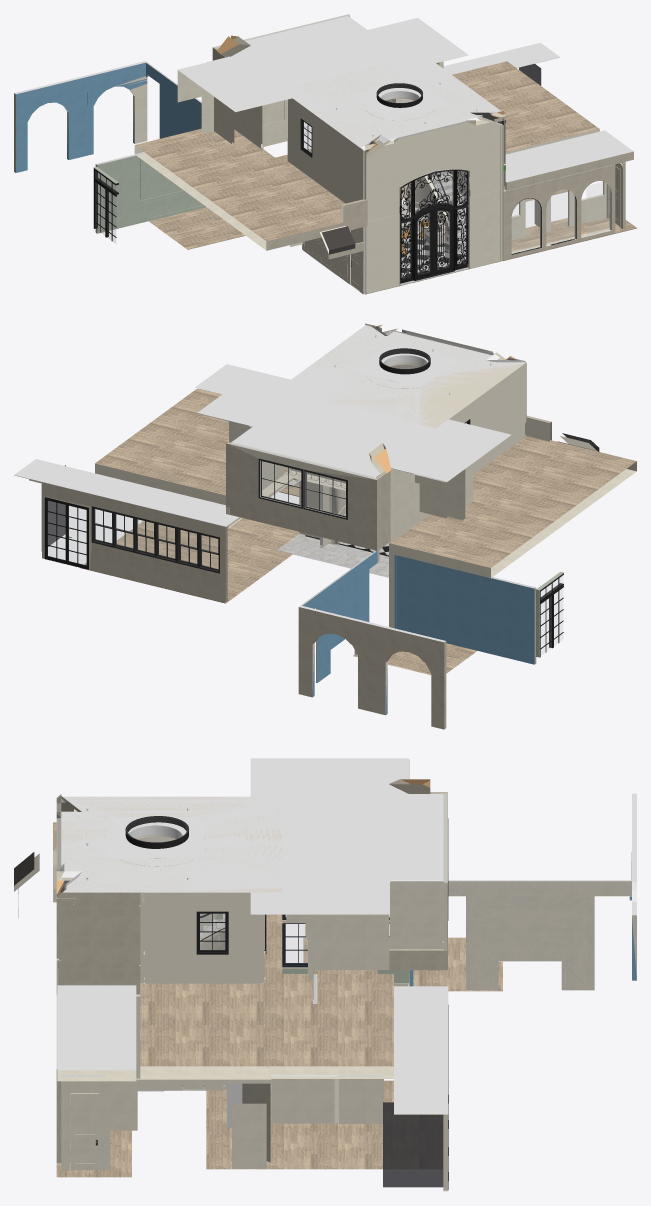
Rendered from entry-5d8864693d4b.glb.
The picture shows the model from 3 angles, top to bottom: view 1: azimuth 30°, elevation 25°; view 2: azimuth 150°, elevation 25°; view 3: azimuth 270°, elevation 25°; orthographic projection. The views are drawn at different scales.
Parts seen in each view (by area): view 1: entry-look-2575515a05775d9e, entry-look-9d91b47435c6fb33, entry-9d91b47435c6fb33, entry-4edf3a9420c06709, entry-look-969b861f9850351e, entry-look-b19b106fc304963c, entry-746250f96522f643, entry-look-dbd60ee5c3733ed6, entry-9ca48b730e5de4b2, entry-look-c9e78b9ec1bb39cd, entry-969fb0f33943ba89, entry-785988ccf932ddd5 (+35 smaller); view 2: entry-look-2575515a05775d9e, entry-look-9d91b47435c6fb33, entry-look-b19b106fc304963c, entry-9d91b47435c6fb33, entry-look-969b861f9850351e, entry-look-245f595ae2832e16, entry-look-3b0077416469e01b, entry-look-bfb9fa537cd11d1d, entry-e8793759323e04f0, entry-look-9a0e9ee9b2a451d7, entry-746250f96522f643, entry-look-3e6709f91b43c3bf (+18 smaller); view 3: entry-look-2575515a05775d9e, entry-look-9d91b47435c6fb33, entry-9d91b47435c6fb33, entry-look-3e6709f91b43c3bf, entry-look-3b0077416469e01b, entry-c51ecd664a3b22a3, entry-look-dbd60ee5c3733ed6, entry-look-9a0e9ee9b2a451d7, entry-62353aa10fc57f23, entry-e8793759323e04f0, entry-look-cbd4bf73d9724a66, entry-look-55ff1dfd7b659ec1 (+23 smaller).
Boxes of the visible parts, bbox=[...] form: entry-look-2575515a05775d9e: bbox=[134, 61, 599, 250]; entry-look-9d91b47435c6fb33: bbox=[178, 16, 468, 112]; entry-9d91b47435c6fb33: bbox=[281, 54, 500, 149]; entry-4edf3a9420c06709: bbox=[365, 120, 503, 221]; entry-look-969b861f9850351e: bbox=[14, 61, 147, 172]; entry-look-b19b106fc304963c: bbox=[95, 152, 202, 233]; entry-746250f96522f643: bbox=[287, 98, 361, 203]; entry-look-dbd60ee5c3733ed6: bbox=[505, 130, 633, 190]; entry-9ca48b730e5de4b2: bbox=[365, 189, 503, 293]; entry-look-c9e78b9ec1bb39cd: bbox=[503, 164, 615, 260]; entry-969fb0f33943ba89: bbox=[365, 189, 503, 293]; entry-785988ccf932ddd5: bbox=[366, 118, 503, 220]; entry-look-2575515a05775d9e: bbox=[95, 388, 636, 578]; entry-look-9d91b47435c6fb33: bbox=[197, 371, 510, 481]; entry-look-b19b106fc304963c: bbox=[397, 555, 536, 664]; entry-9d91b47435c6fb33: bbox=[277, 325, 525, 427]; entry-look-969b861f9850351e: bbox=[298, 605, 446, 729]; entry-look-245f595ae2832e16: bbox=[226, 442, 377, 551]; entry-look-3b0077416469e01b: bbox=[80, 518, 476, 674]; entry-look-bfb9fa537cd11d1d: bbox=[42, 482, 227, 602]; entry-e8793759323e04f0: bbox=[301, 326, 525, 428]; entry-look-9a0e9ee9b2a451d7: bbox=[14, 459, 238, 526]; entry-746250f96522f643: bbox=[449, 363, 524, 474]; entry-look-3e6709f91b43c3bf: bbox=[302, 551, 377, 682]; entry-look-2575515a05775d9e: bbox=[53, 822, 393, 1078]; entry-look-9d91b47435c6fb33: bbox=[250, 758, 442, 914]; entry-9d91b47435c6fb33: bbox=[61, 796, 282, 892]; entry-look-3e6709f91b43c3bf: bbox=[448, 880, 631, 989]; entry-look-3b0077416469e01b: bbox=[206, 937, 502, 1169]; entry-c51ecd664a3b22a3: bbox=[145, 892, 264, 983]; entry-look-dbd60ee5c3733ed6: bbox=[57, 985, 136, 1081]; entry-look-9a0e9ee9b2a451d7: bbox=[394, 986, 448, 1114]; entry-62353aa10fc57f23: bbox=[61, 892, 140, 994]; entry-e8793759323e04f0: bbox=[58, 794, 282, 892]; entry-look-cbd4bf73d9724a66: bbox=[383, 1102, 443, 1187]; entry-look-55ff1dfd7b659ec1: bbox=[448, 880, 631, 990].
Bounding box in the file's own units: 21.07 × 7.01 × 18.
69 materials, 11 textured.
